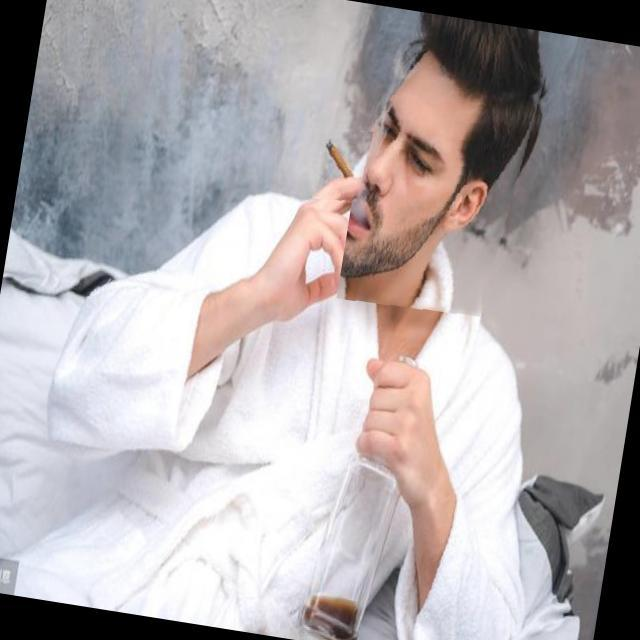cigarette: (312, 124, 374, 207)
